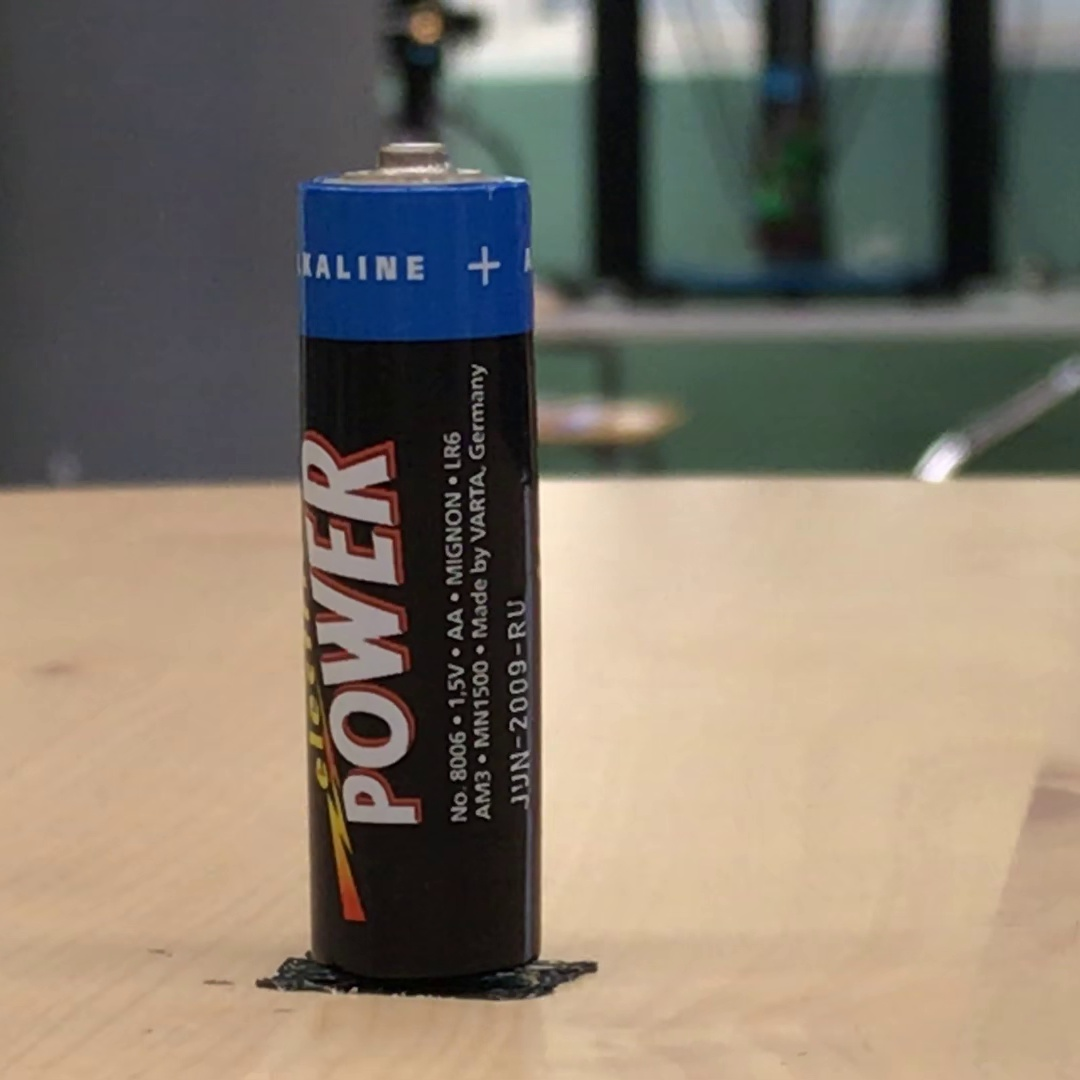keyword: (439, 655, 473, 716), (434, 423, 470, 478)
